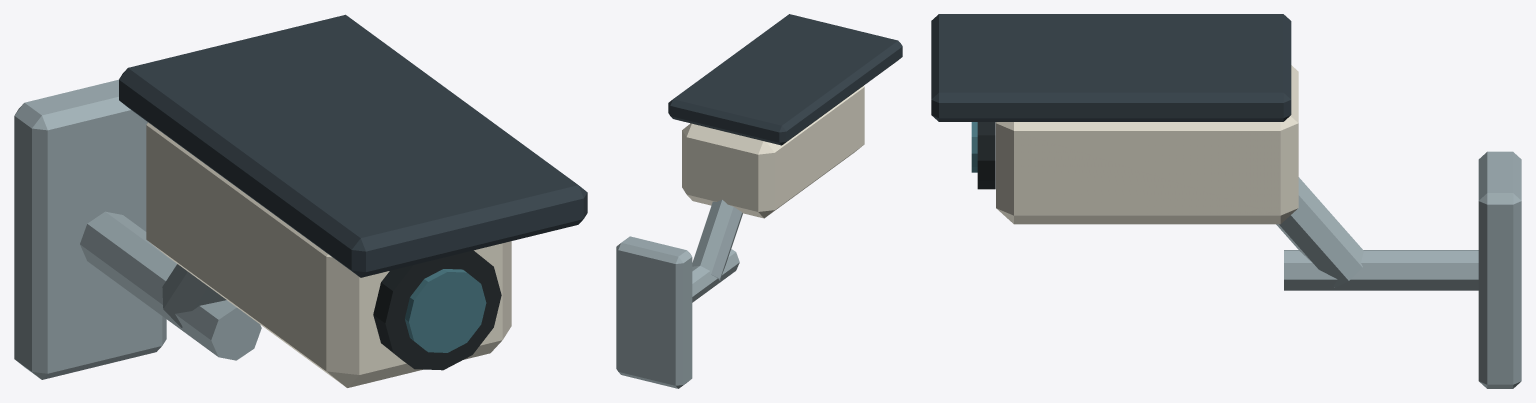
Rendered from CCTV_Wall.glb.
3 views of the same model, side by side, from view 1: azimuth 30°, elevation 25°; view 2: azimuth 150°, elevation 25°; view 3: azimuth 270°, elevation 25° (orthographic). The views are drawn at different scales.
Parts seen in each view (by area): view 1: CCTV_Wall; view 2: CCTV_Wall; view 3: CCTV_Wall.
Part boxes in pixels (bbox=[...]): CCTV_Wall: bbox=[14, 14, 587, 387]; CCTV_Wall: bbox=[616, 14, 902, 388]; CCTV_Wall: bbox=[931, 14, 1521, 388].
Bounding box in the file's own units: 0.28 × 0.4825 × 0.82.
